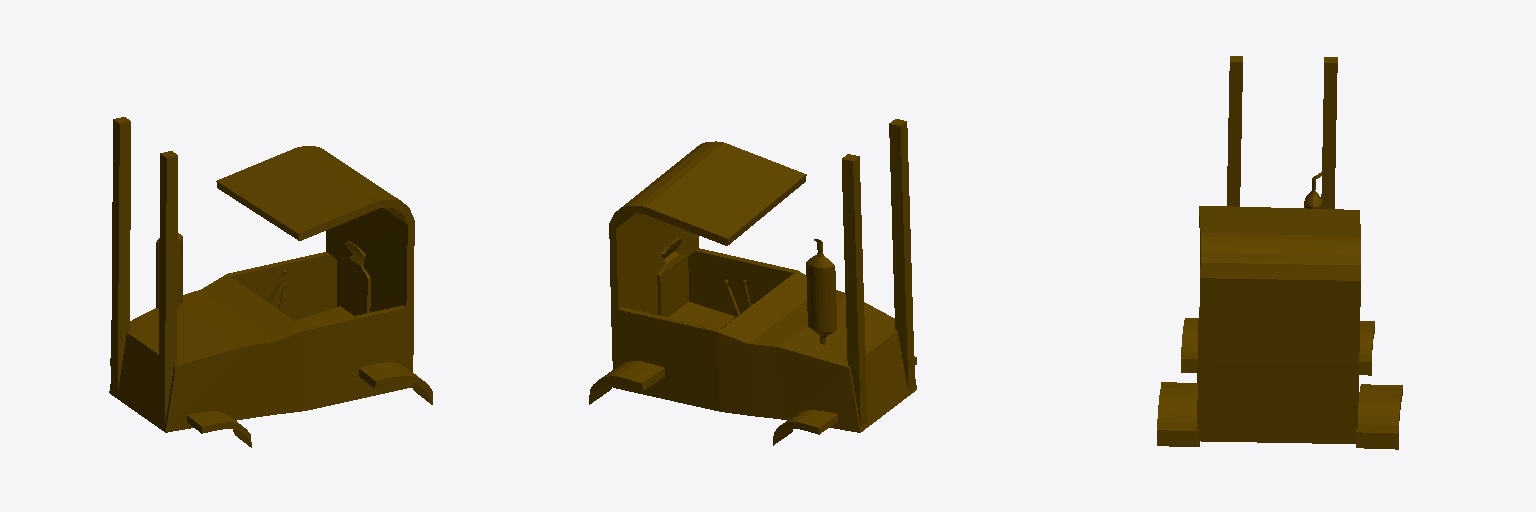
The model's file is cuerpo.obj.
3 renders of one model, left to right at view 1: azimuth 30°, elevation 25°; view 2: azimuth 150°, elevation 25°; view 3: azimuth 270°, elevation 25°, orthographic.
Parts seen in each view (by area): view 1: Cube_Cube.002; view 2: Cube_Cube.002; view 3: Cube_Cube.002.
Boxes of the visible parts, box(x1,y1,x2,y2) form: Cube_Cube.002: box(109, 117, 432, 447); Cube_Cube.002: box(589, 119, 916, 445); Cube_Cube.002: box(1157, 56, 1402, 449).
Size of the model in its own units: 6.76 by 7.77 by 6.01.